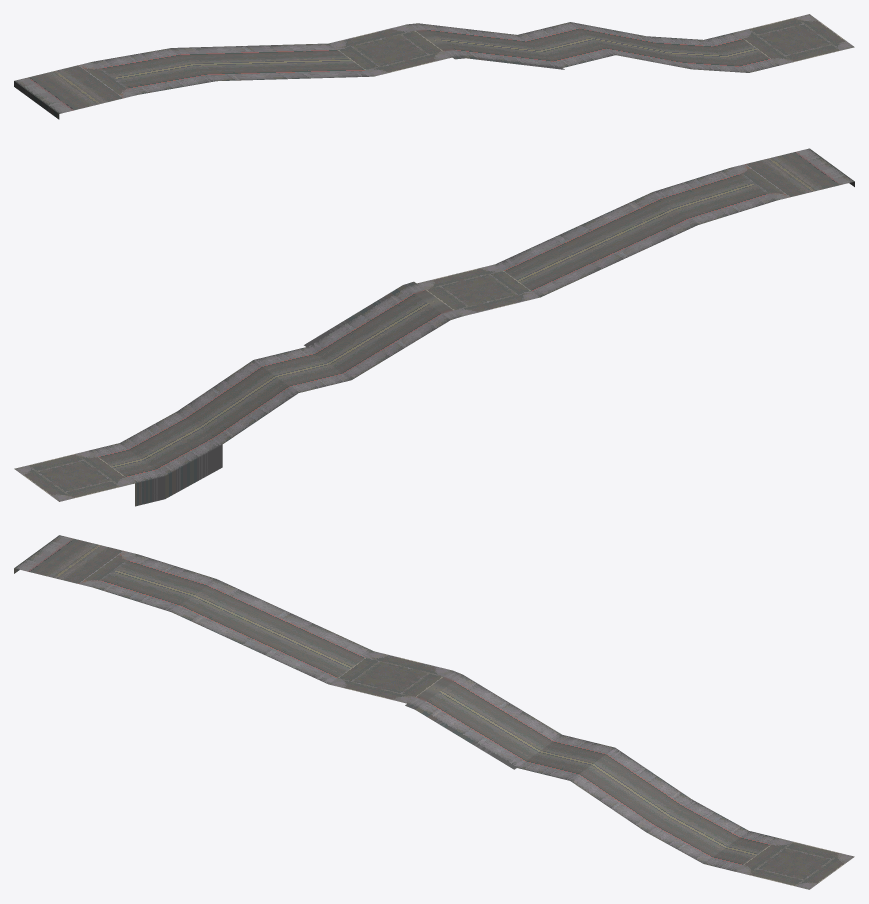
The model's file is lodroadssfs35.obj.
The picture shows the model from 3 angles, top to bottom: view 1: azimuth 30°, elevation 25°; view 2: azimuth 210°, elevation 25°; view 3: azimuth 330°, elevation 25°; orthographic projection.
Visible parts, largest first — view 1: LODROADSsfs35; view 2: LODROADSsfs35; view 3: LODROADSsfs35.
Part boxes in pixels (box(x1,y1,x2,y2)): LODROADSsfs35: box(14, 14, 854, 119); LODROADSsfs35: box(14, 148, 854, 506); LODROADSsfs35: box(14, 535, 854, 889).
Bounding box in the file's own units: 202 × 36.43 × 21.37.
Materials: 3 (3 with a texture image).
